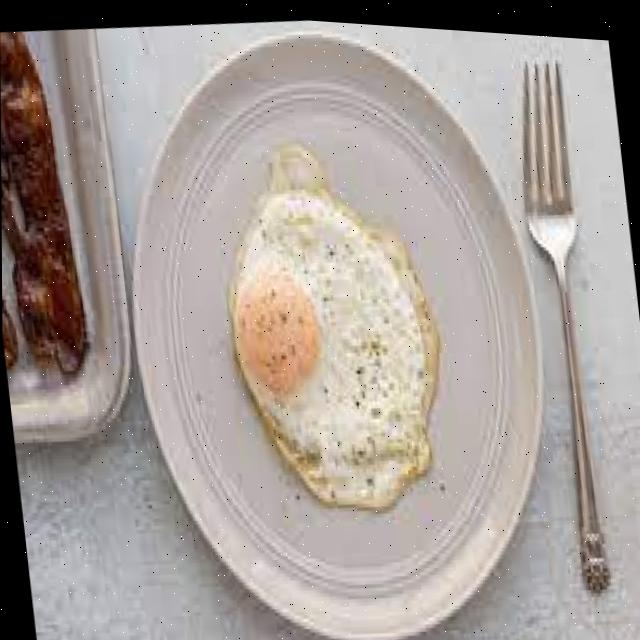Bacon: (0, 31, 85, 371)
Egg: (228, 141, 435, 502)
